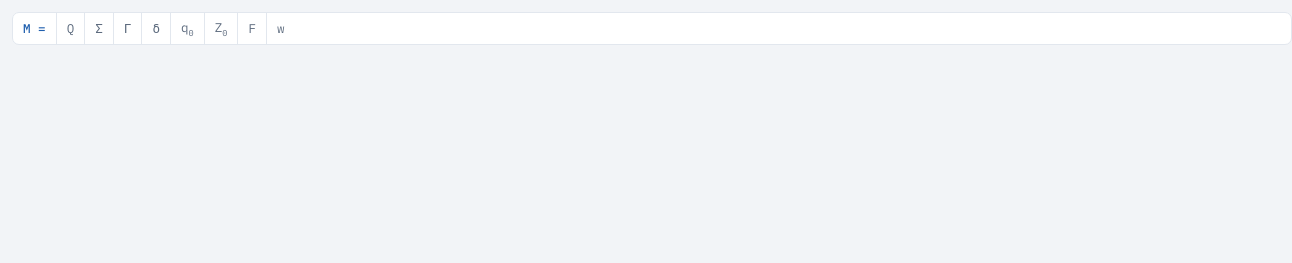
Test: Tupla › cada símbolo explica su significado y muestra el valor del esquema compilado
Click the button named "Q: Estados" at x=70, y=28, box left=56, top=13, right=84, bottom=44
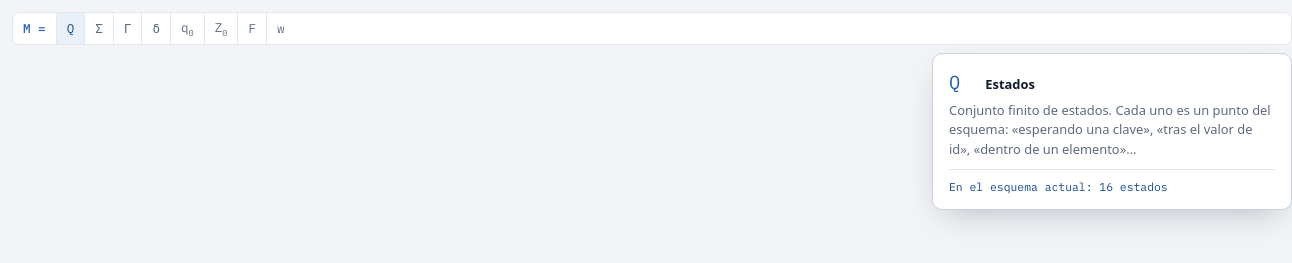
Result: the tooltip shows "16 estados" at left=1099, top=179, right=1168, bottom=194
Click the button named "δ:" at x=156, y=28, box left=141, top=13, right=170, bottom=44
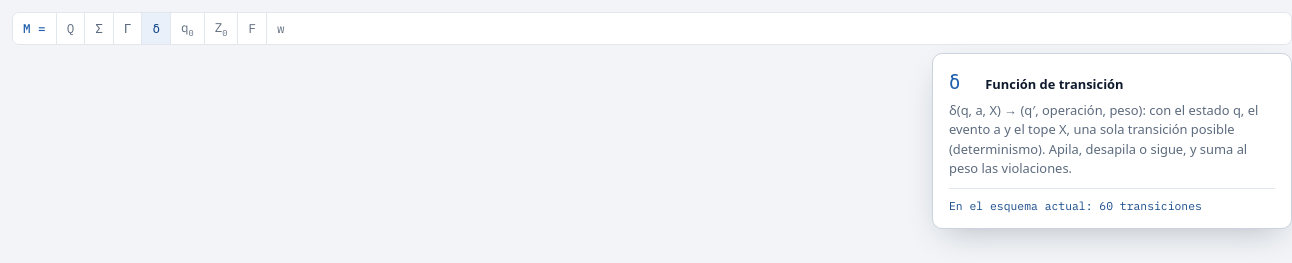
Result: the tooltip shows "60 transiciones" at left=1099, top=198, right=1202, bottom=213
Click the button named "w: Función de peso" at x=280, y=28, box left=266, top=13, right=295, bottom=44
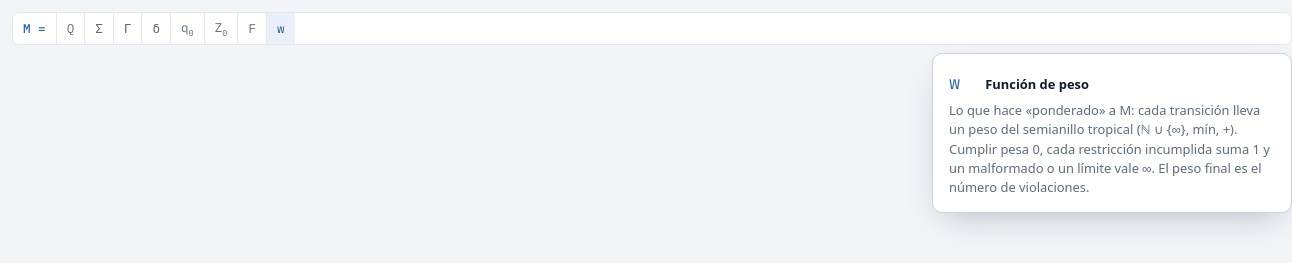
Result: the tooltip shows "semianillo tropical" at left=949, top=101, right=1270, bottom=196
Press Escape
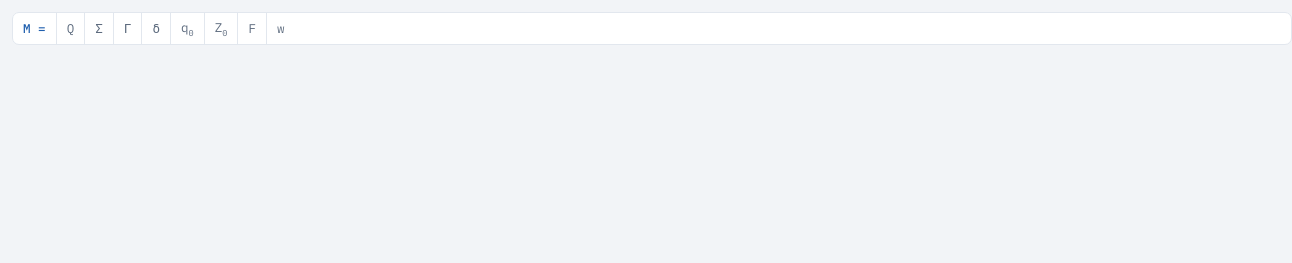
Result: the tooltip is gone
